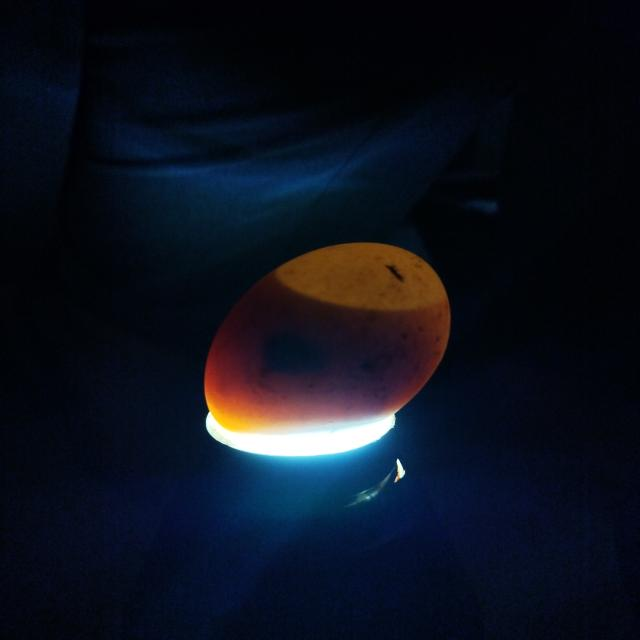Area Infectada: (231, 301, 427, 417)
